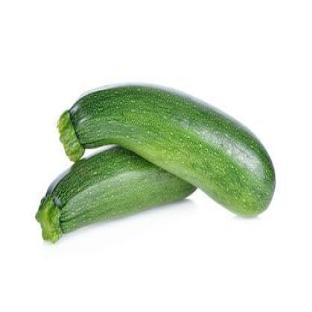Zucchini: (59, 86, 275, 215), (36, 147, 195, 242)
